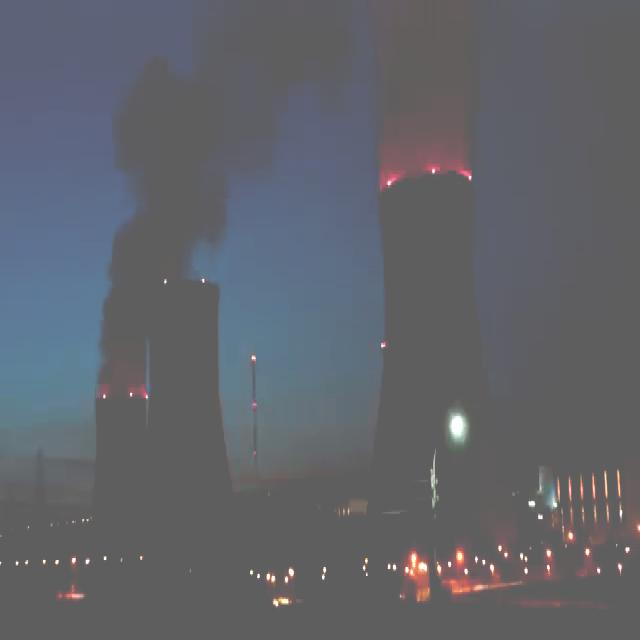smoke: (101, 0, 302, 388), (371, 0, 480, 194)
